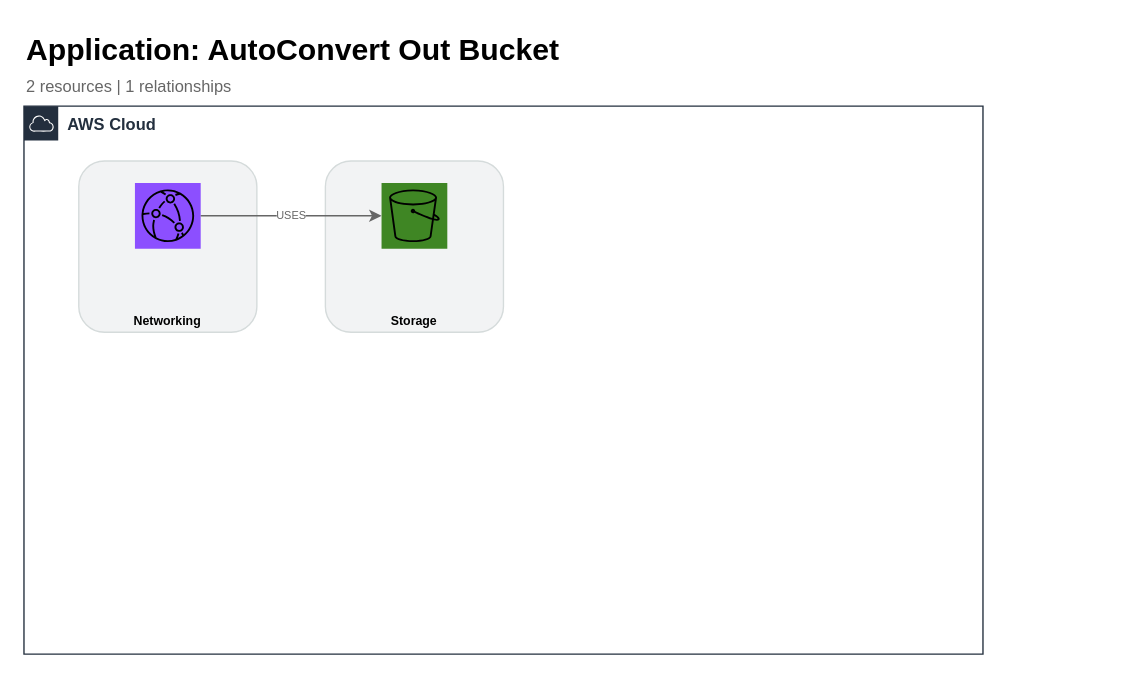
Image size: 1144x678. Some labels were removed from this diagram. The shapes that lost their labels are listed below. From the top down, each one's centre as x and y in pixels, then its label:
At point 167,215: "AutoConvert Out Bucket".
At point 414,215: "outbucket-378580706611".
